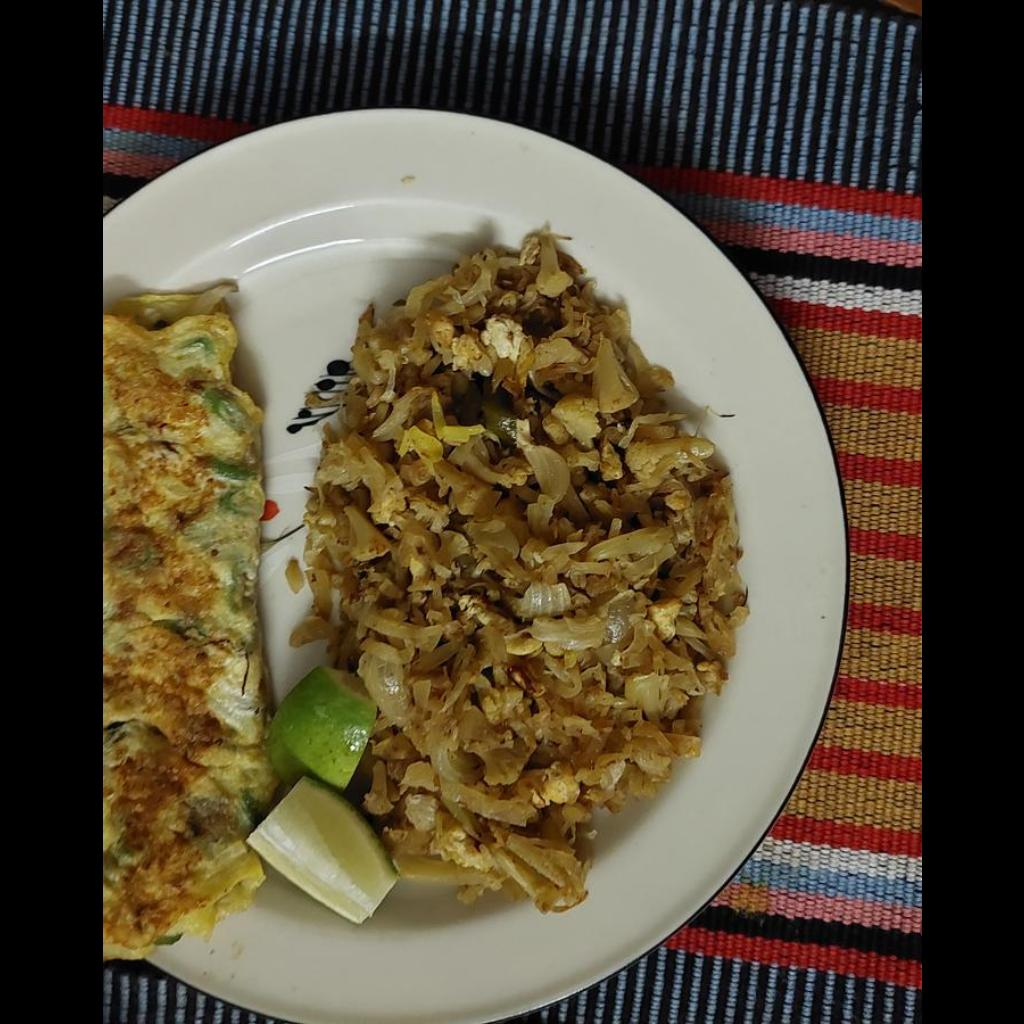egg-poached: (103, 283, 266, 951)
lemon: (254, 673, 389, 926)
vaji: (293, 225, 743, 910)
